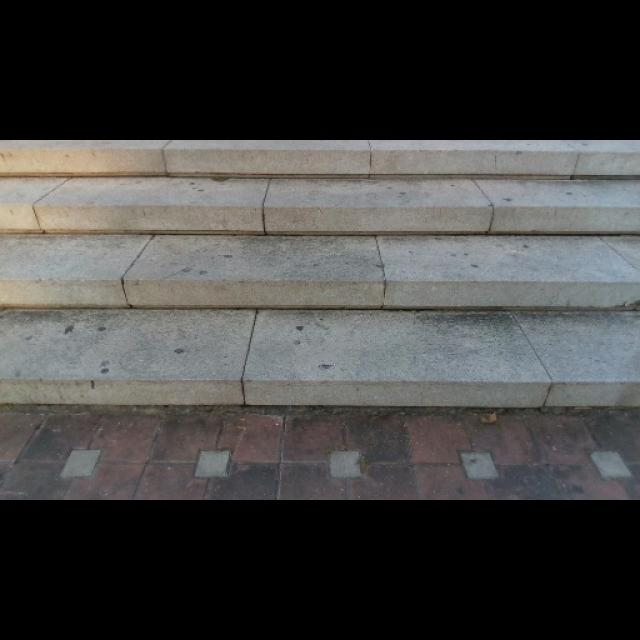Stairs: (0, 140, 639, 408)
